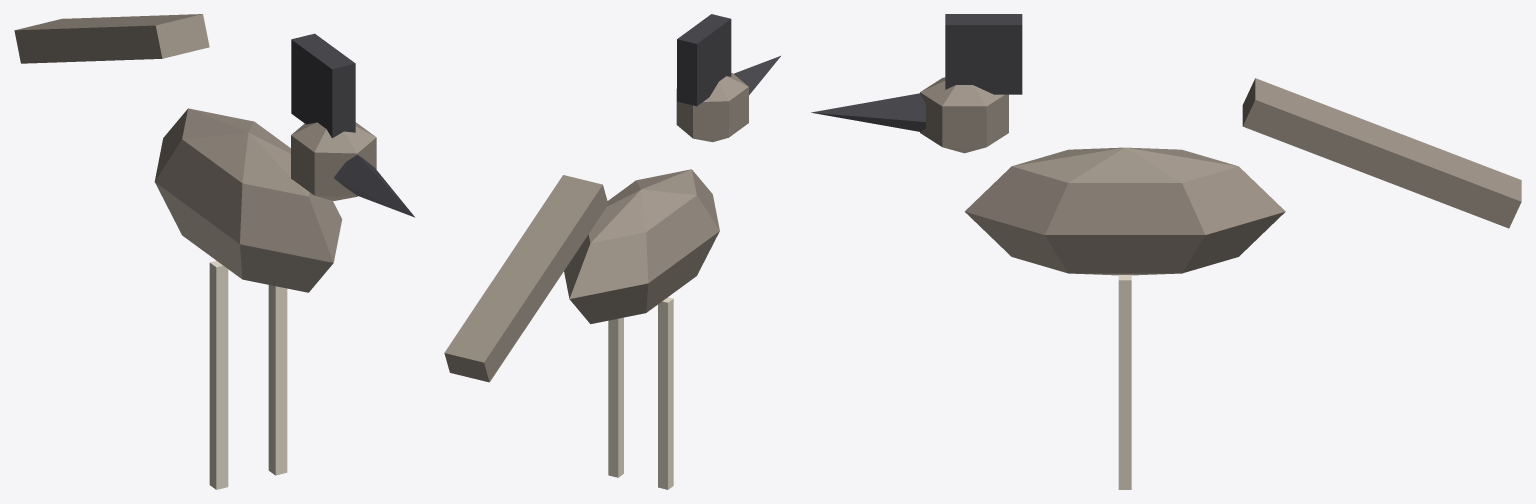
Rendered from roadrunner.glb.
3 views of the same model, side by side, from view 1: azimuth 30°, elevation 25°; view 2: azimuth 150°, elevation 25°; view 3: azimuth 270°, elevation 25° (orthographic). The views are drawn at different scales.
Visible parts, largest first — view 1: roadrunner; view 2: roadrunner; view 3: roadrunner.
Boxes of the visible parts, x1,y1,x2,y2 form: roadrunner: [14, 14, 414, 489]; roadrunner: [444, 14, 780, 489]; roadrunner: [811, 14, 1521, 489].
Size of the model in its own units: 0.1732 by 0.78 by 1.11.
